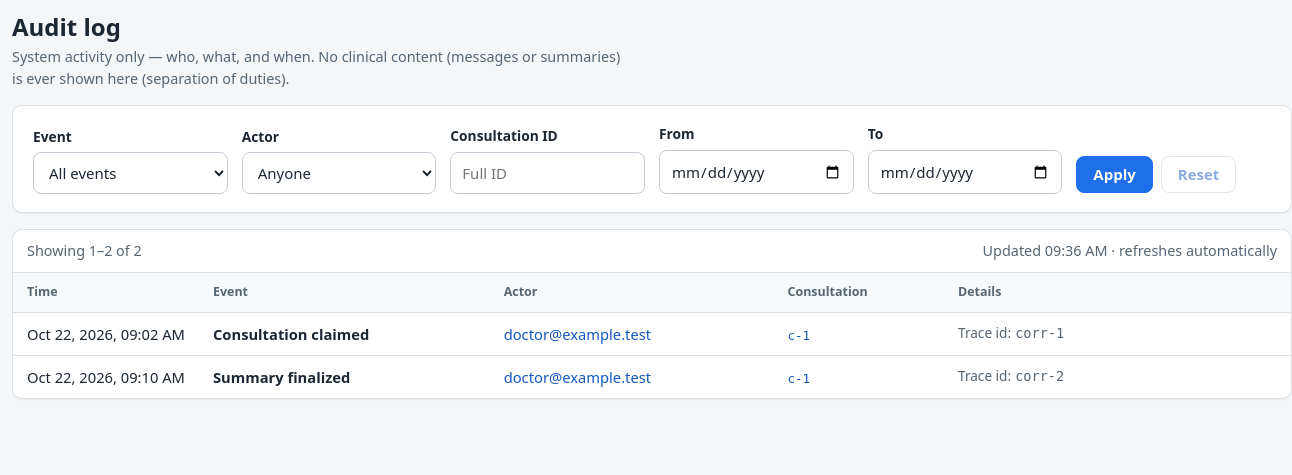
Test case: AdminAudit screen › rejects a partial consultation id before querying
The width and height of the screenshot is (1292, 475).
Type "c-1" into the field labelled "Consultation ID" at (548, 173), box [450,152,645,194]
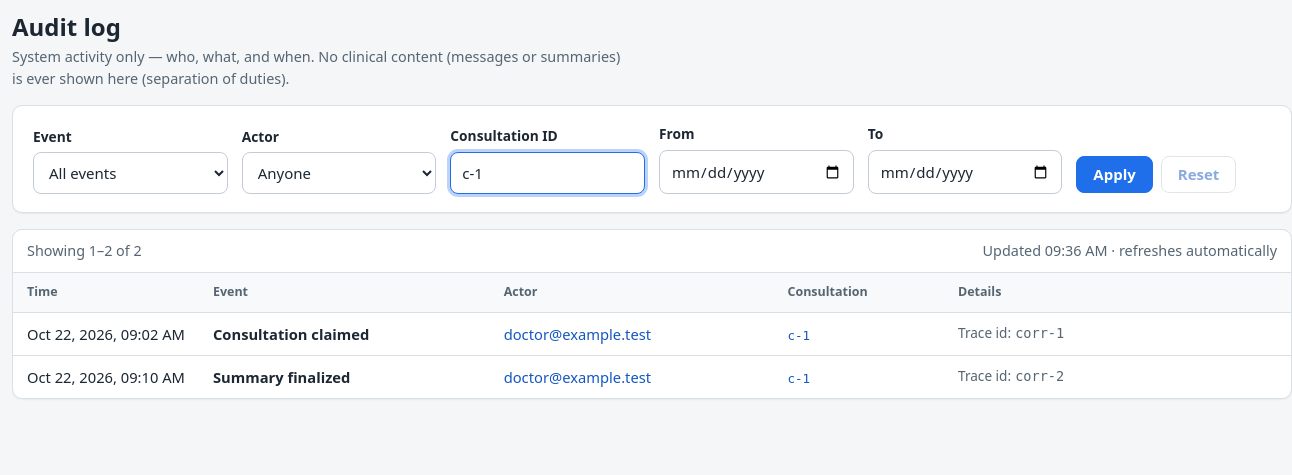
Click the button "Apply" at (1115, 175), box [1076,156,1153,193]
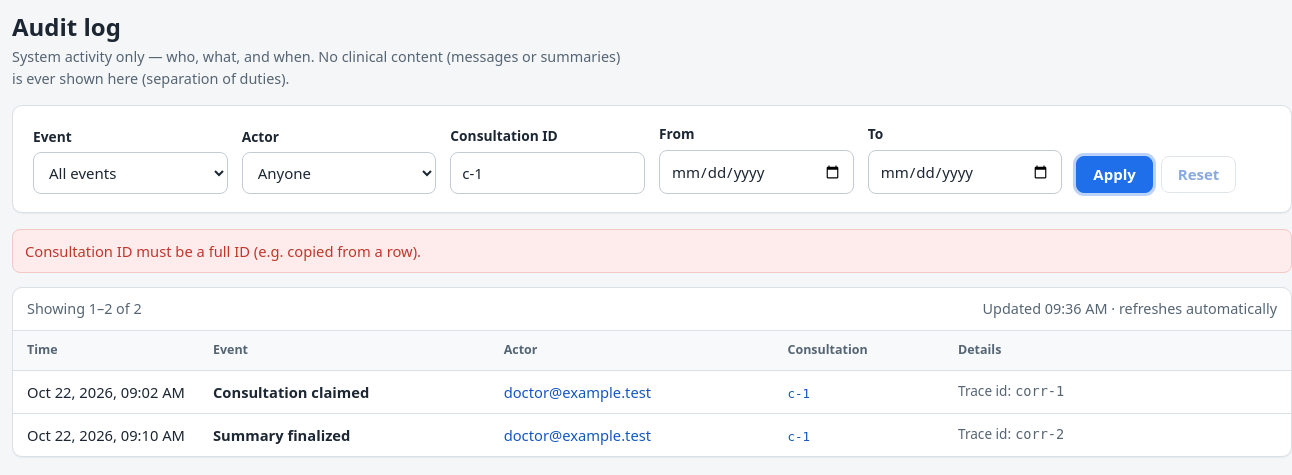
Result: the text "Consultation ID must be a full ID (e.g. copied from a row)." is shown at [12,229,1291,274]
